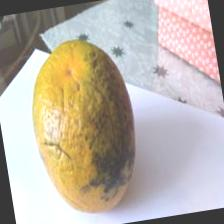Orange Rotten: (18, 25, 156, 224)
